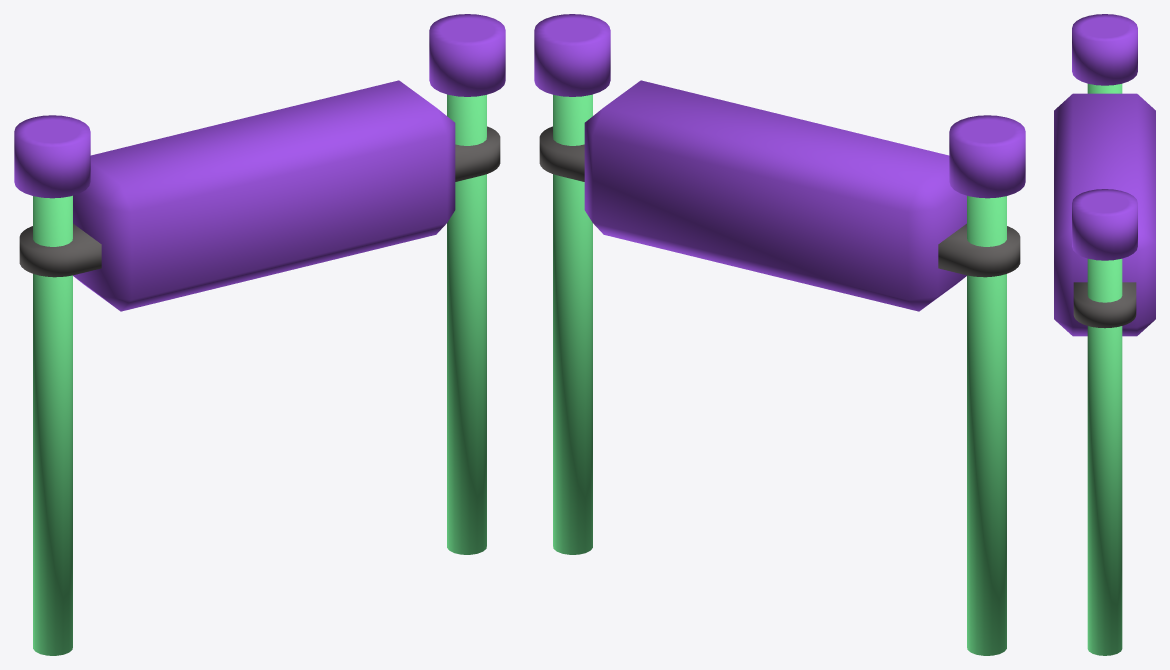
Rendered from Obstacle 25 V4.fbx.
The picture shows the model from 3 angles, left to right: view 1: azimuth 30°, elevation 25°; view 2: azimuth 150°, elevation 25°; view 3: azimuth 270°, elevation 25°; orthographic projection. The views are drawn at different scales.
Parts seen in each view (by area): view 1: O25 Part 1, O25 Part 2; view 2: O25 Part 1, O25 Part 2; view 3: O25 Part 2, O25 Part 1.
Boxes of the visible parts, left/top/right/bottom form: O25 Part 1: left=19, top=80, right=500, bottom=311; O25 Part 2: left=14, top=14, right=505, bottom=655; O25 Part 1: left=539, top=80, right=1020, bottom=311; O25 Part 2: left=534, top=14, right=1025, bottom=655; O25 Part 2: left=1072, top=14, right=1137, bottom=655; O25 Part 1: left=1054, top=93, right=1155, bottom=336.
Bounding box in the file's own units: 294 × 302 × 62.5.
1 material, 1 textured.
